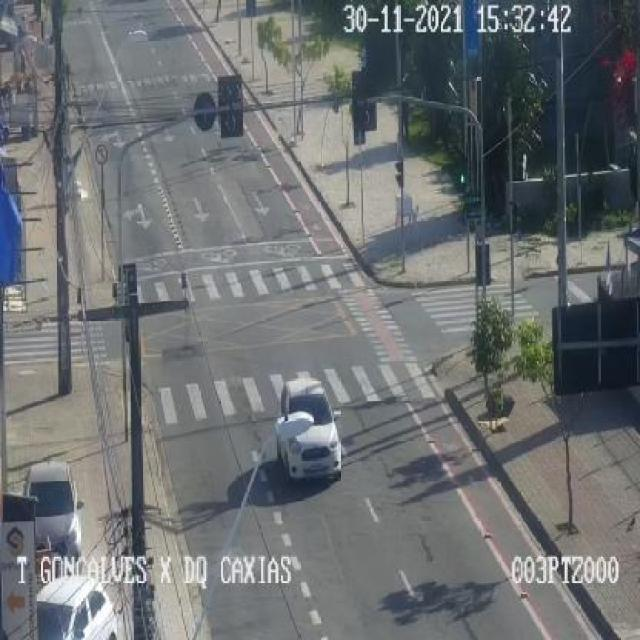car: (274, 376, 341, 479), (38, 576, 118, 640), (28, 461, 81, 556)
traffic-lights: (475, 241, 491, 286), (395, 160, 404, 186)
